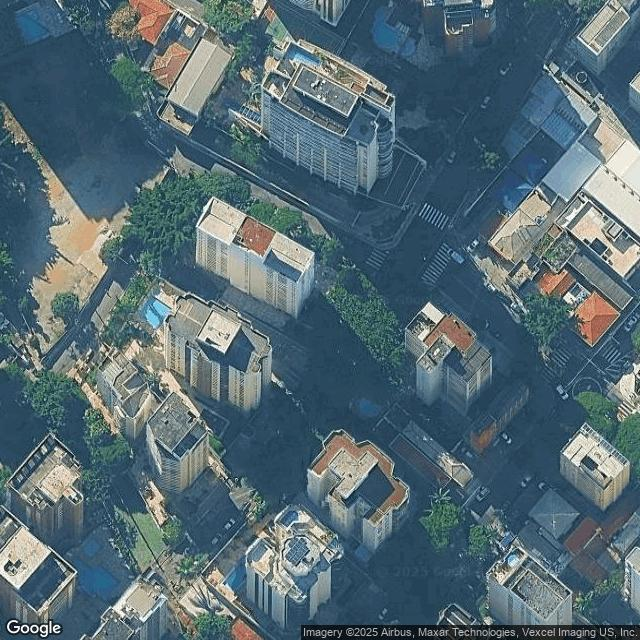pool: (90, 570, 119, 595), (384, 40, 401, 72), (155, 311, 167, 335), (300, 63, 312, 86), (241, 568, 254, 587), (367, 408, 377, 432), (32, 20, 40, 40), (291, 522, 294, 539)
